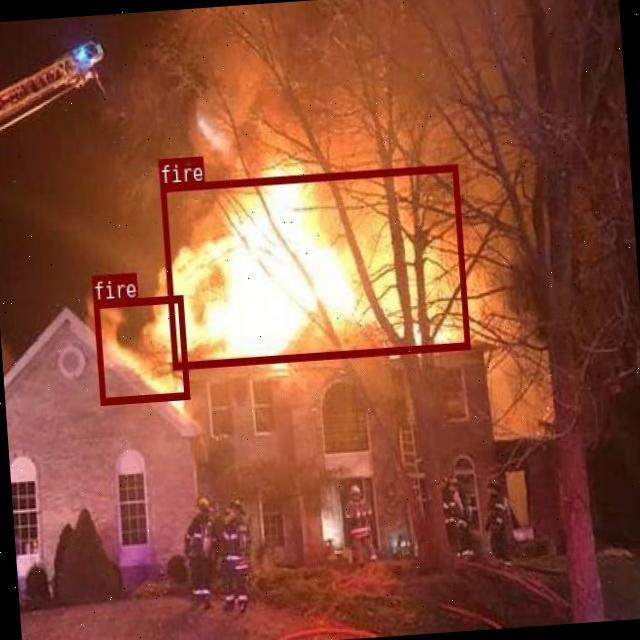fire: (159, 164, 469, 368), (92, 294, 188, 404)
